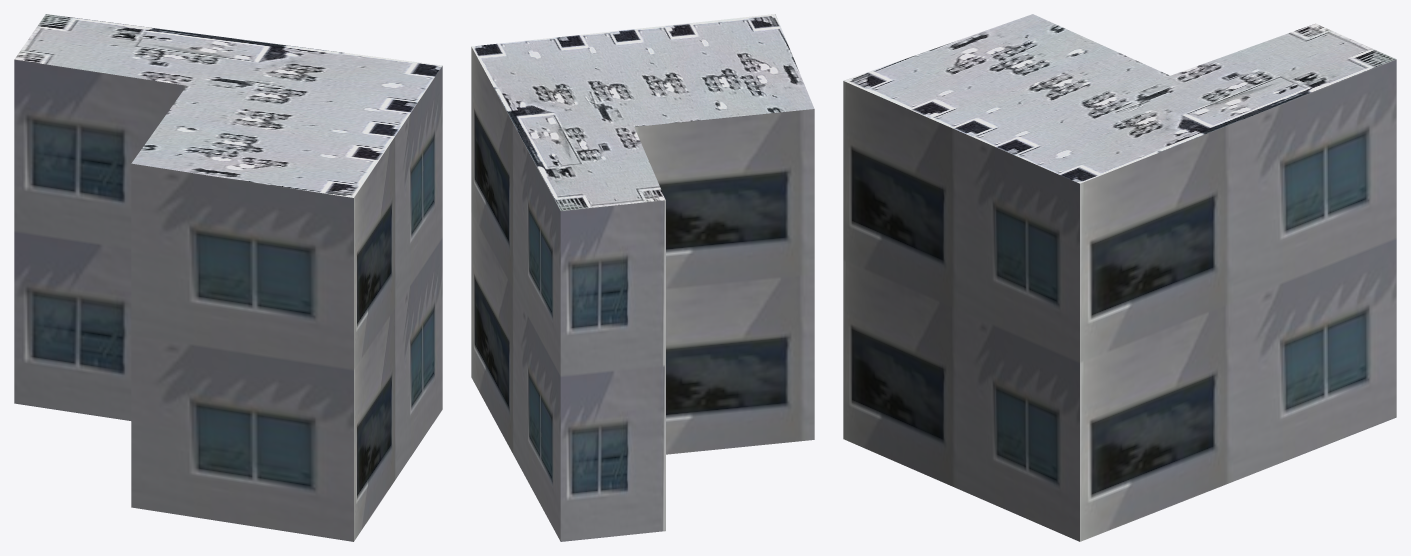
The model's file is ResTex__3073.fbx.
3 renders of one model, left to right at view 1: azimuth 30°, elevation 25°; view 2: azimuth 150°, elevation 25°; view 3: azimuth 270°, elevation 25°, orthographic. The views are drawn at different scales.
Parts seen in each view (by area): view 1: CityEngineMaterial_10_m, CityEngineMaterial_4_m; view 2: CityEngineMaterial_10_m, CityEngineMaterial_4_m; view 3: CityEngineMaterial_10_m, CityEngineMaterial_4_m.
Boxes of the visible parts, x1,y1,x2,y2 form: CityEngineMaterial_10_m: (14, 59, 442, 541); CityEngineMaterial_4_m: (14, 14, 442, 197); CityEngineMaterial_10_m: (471, 47, 814, 541); CityEngineMaterial_4_m: (471, 14, 814, 210); CityEngineMaterial_10_m: (843, 59, 1396, 541); CityEngineMaterial_4_m: (843, 14, 1396, 183).
Size of the model in its own units: 6.1 by 6 by 8.4.
Materials: 2 (2 with a texture image).
